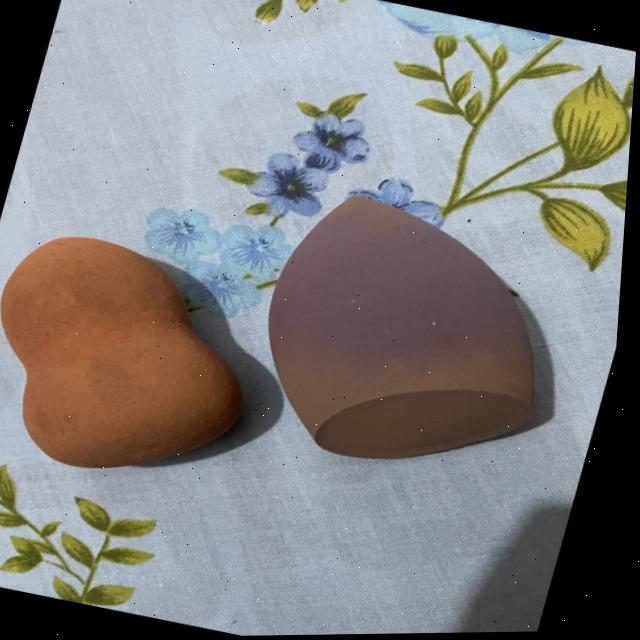beauty blender: (215, 137, 623, 512), (0, 194, 302, 511)
